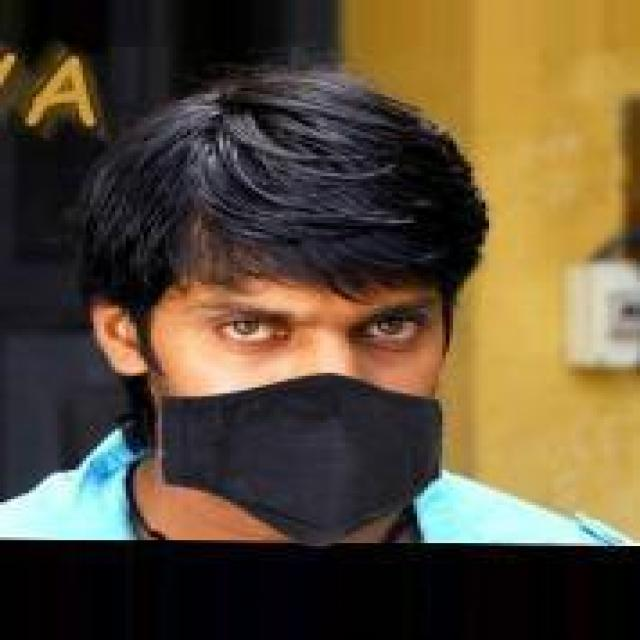mask: (83, 85, 525, 549)
